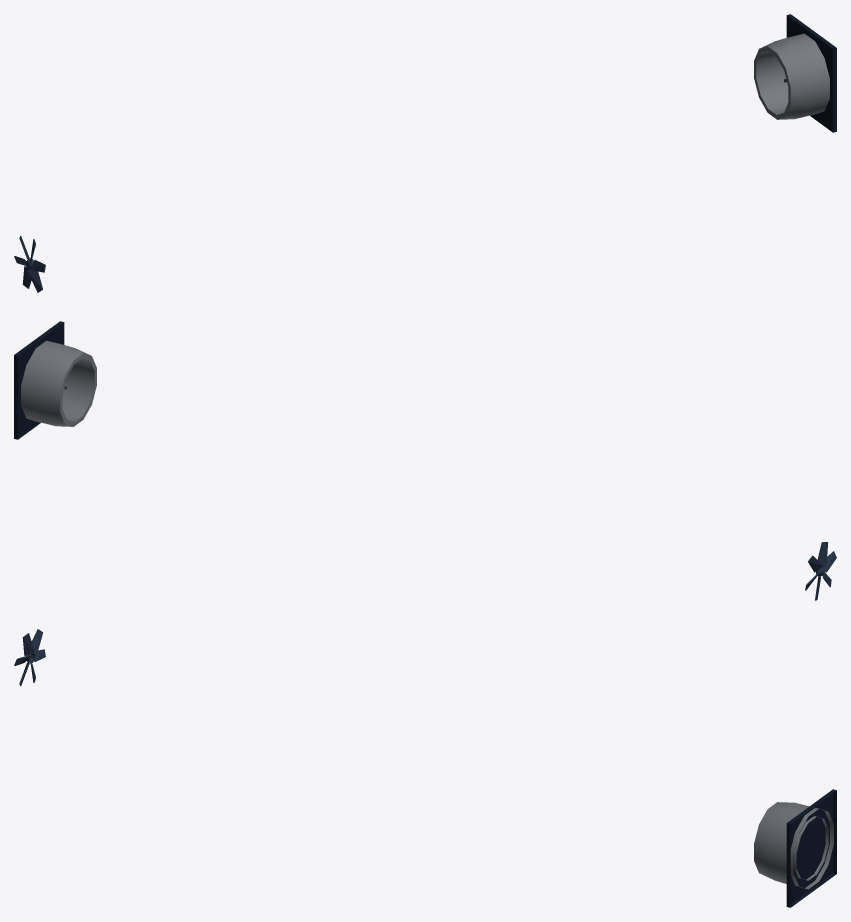
Rendered from RS_FanHousing.glb.
3 renders of one model, top to bottom at view 1: azimuth 30°, elevation 25°; view 2: azimuth 150°, elevation 25°; view 3: azimuth 330°, elevation 25°, orthographic.
Parts seen in each view (by area): view 1: RS_FanHousing__cowl, RS_FanHousing__mount, RS_FanHousing__rotor; view 2: RS_FanHousing__cowl, RS_FanHousing__mount, RS_FanHousing__rotor; view 3: RS_FanHousing__mount, RS_FanHousing__cowl, RS_FanHousing__rotor.
Boxes of the visible parts, bbox=[...] form: RS_FanHousing__cowl: bbox=[754, 33, 829, 119]; RS_FanHousing__mount: bbox=[786, 14, 836, 132]; RS_FanHousing__rotor: bbox=[14, 236, 45, 292]; RS_FanHousing__cowl: bbox=[21, 340, 96, 426]; RS_FanHousing__mount: bbox=[14, 321, 64, 439]; RS_FanHousing__rotor: bbox=[805, 542, 836, 600]; RS_FanHousing__mount: bbox=[786, 789, 836, 907]; RS_FanHousing__cowl: bbox=[754, 802, 833, 889]; RS_FanHousing__rotor: bbox=[14, 629, 45, 685].
Bounding box in the file's own units: 27.52 × 2.8 × 2.8.
